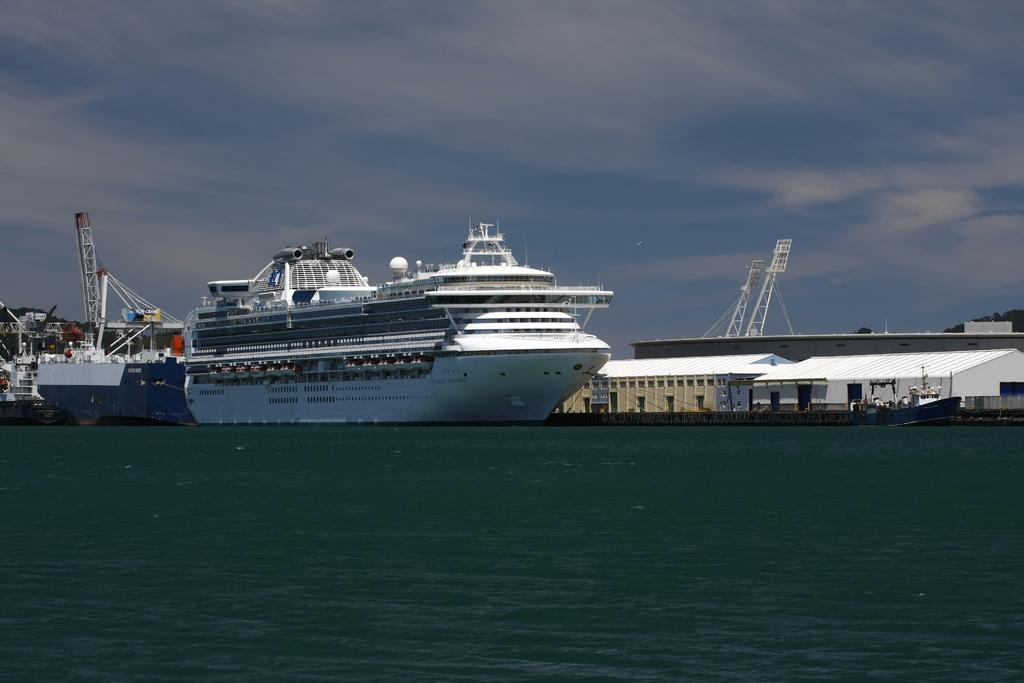PassengerShip: (178, 221, 618, 421)
